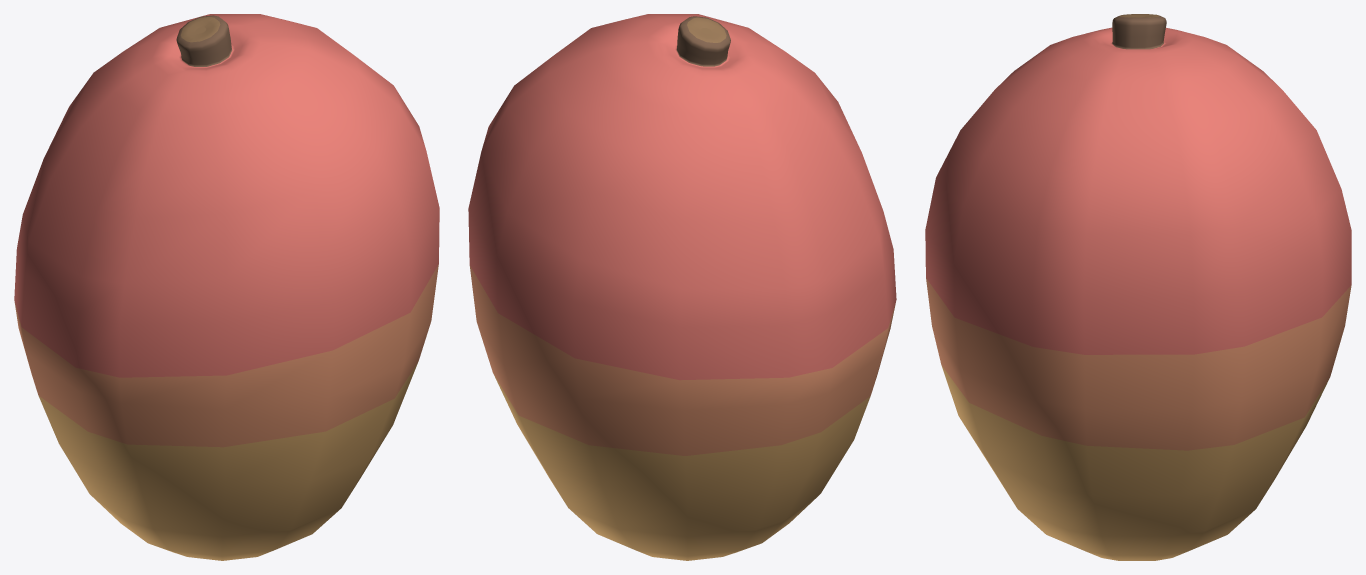
The model's file is atoll_sm_mangoV2.fbx.
3 views of the same model, side by side, from view 1: azimuth 30°, elevation 25°; view 2: azimuth 150°, elevation 25°; view 3: azimuth 270°, elevation 25° (orthographic).
Parts seen in each view (by area): view 1: mangooo; view 2: mangooo; view 3: mangooo.
Part boxes in pixels (x1,y1,x2,y2): mangooo: (14,14,439,560); mangooo: (468,14,896,560); mangooo: (925,14,1351,560).
Size of the model in its own units: 11.36 by 16 by 11.75.
